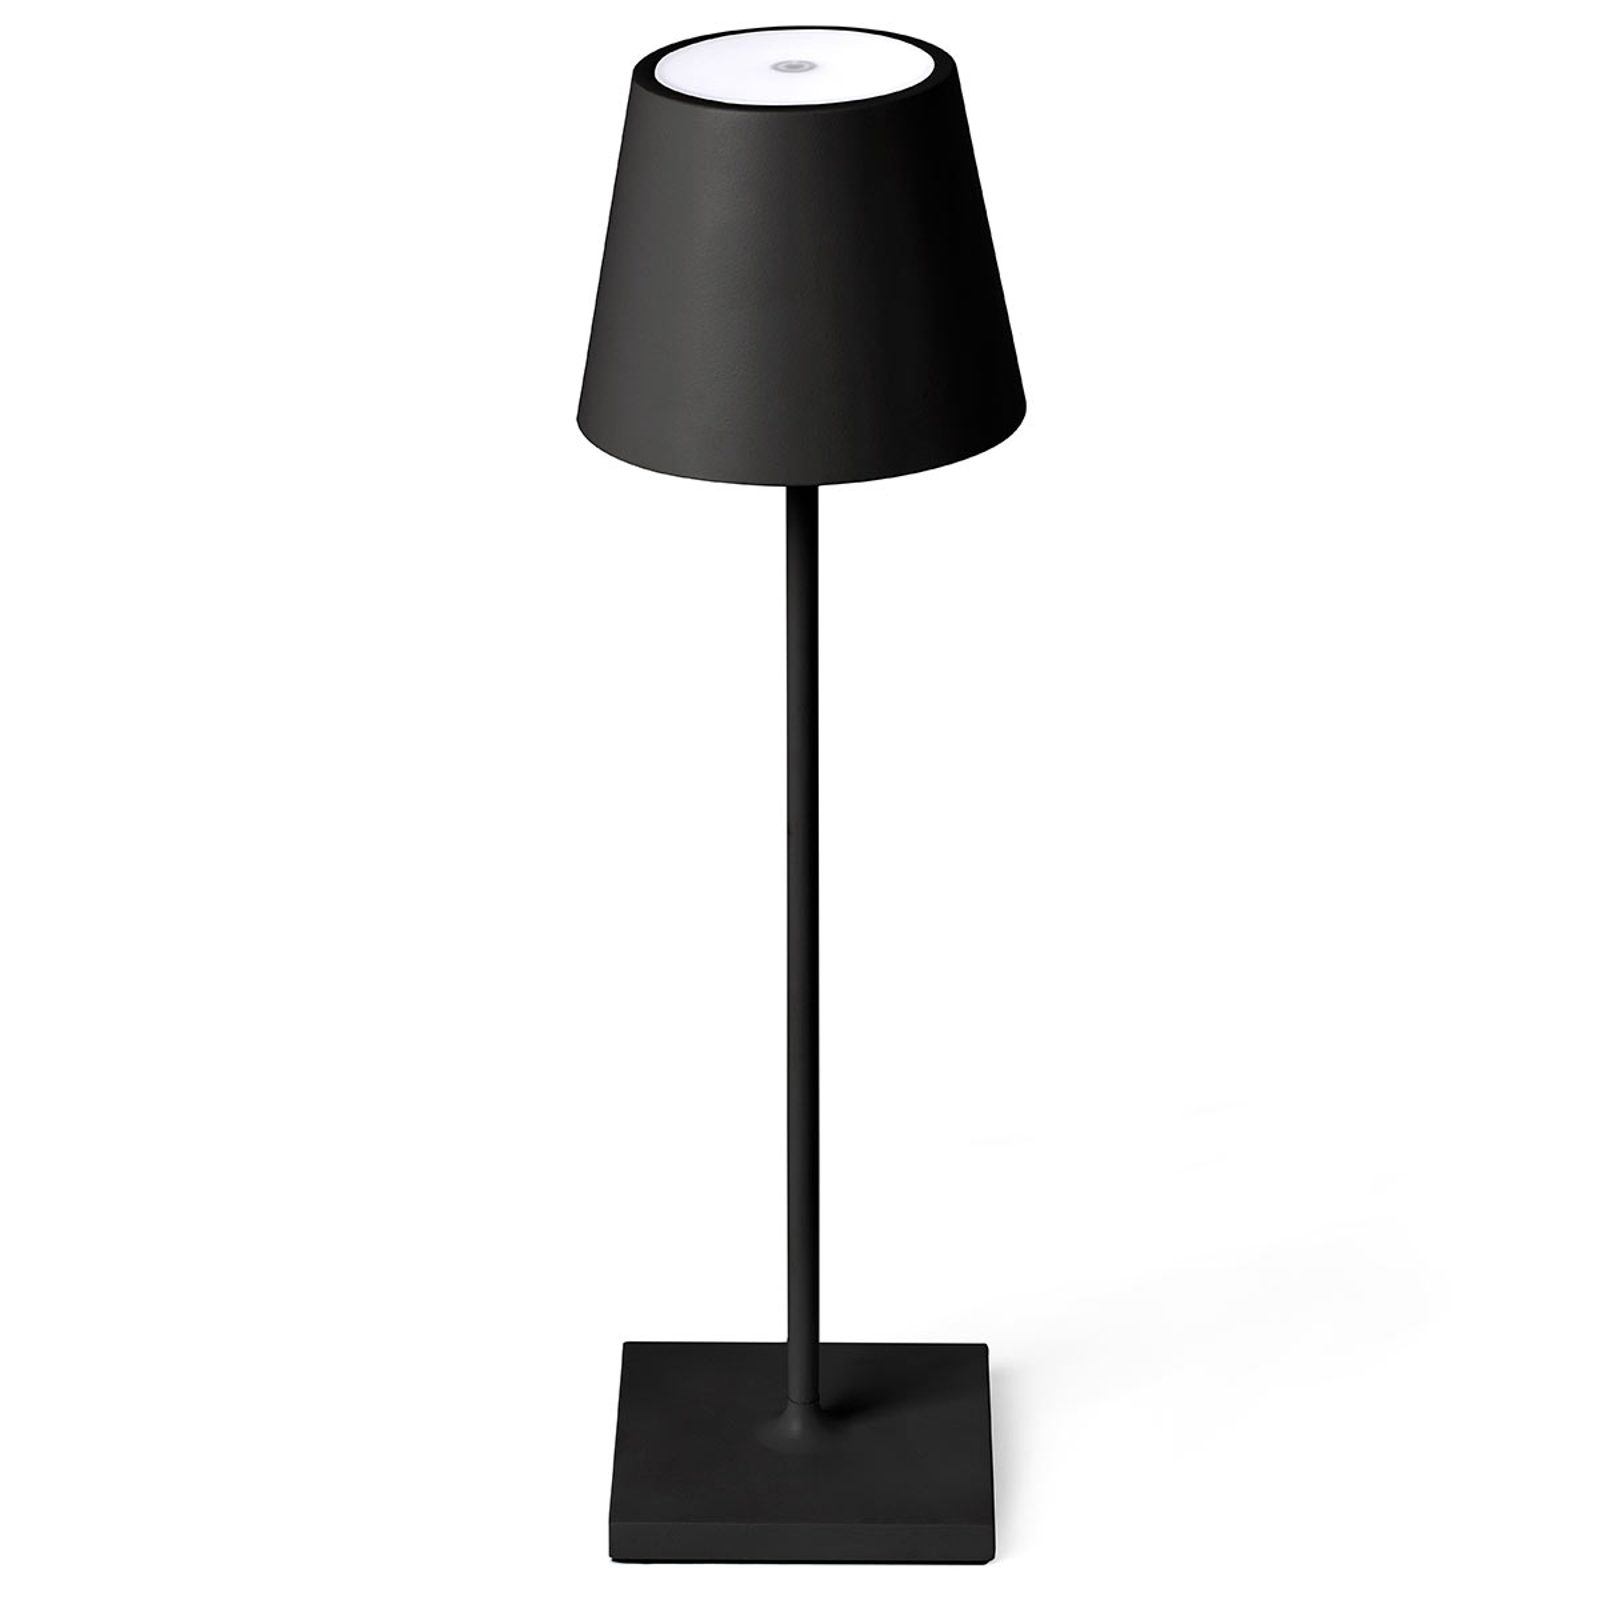lampu: (571, 23, 1030, 1588)
